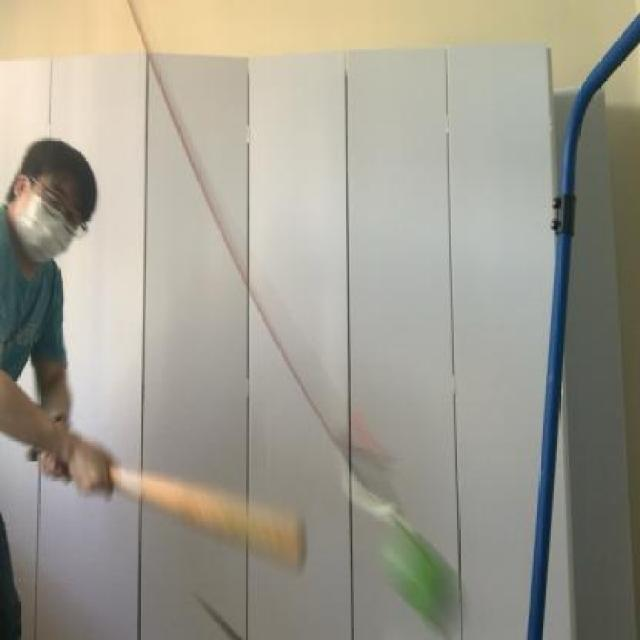baseball: (362, 518, 460, 627)
